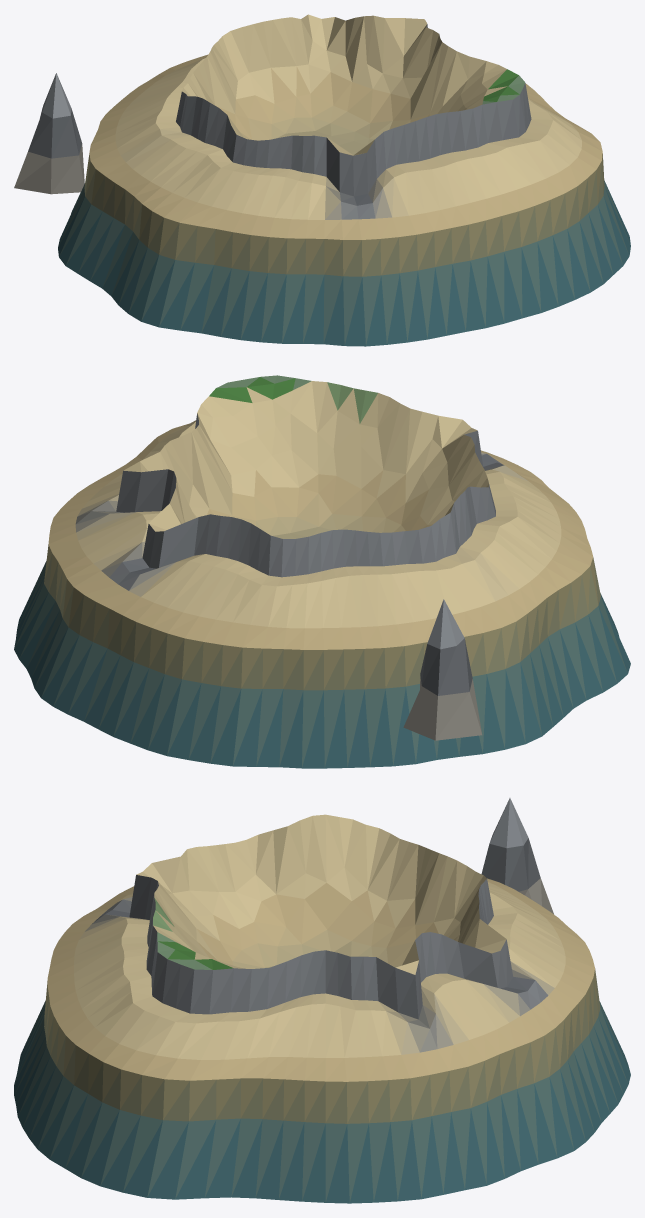
File: islet_05.glb
3 renders of one model, top to bottom at view 1: azimuth 30°, elevation 25°; view 2: azimuth 150°, elevation 25°; view 3: azimuth 270°, elevation 25°, orthographic. The views are drawn at different scales.
Visible parts, largest first — view 1: islet_05; view 2: islet_05; view 3: islet_05.
Part boxes in pixels (bbox=[...]): islet_05: bbox=[14, 14, 630, 346]; islet_05: bbox=[14, 375, 630, 768]; islet_05: bbox=[14, 798, 630, 1203].
Size of the model in its own units: 21.67 by 7.86 by 21.77.
